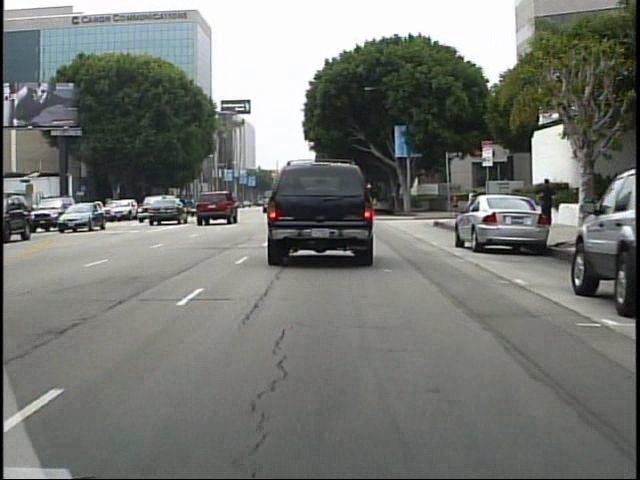person: (537, 174, 557, 216), (464, 185, 483, 225)
